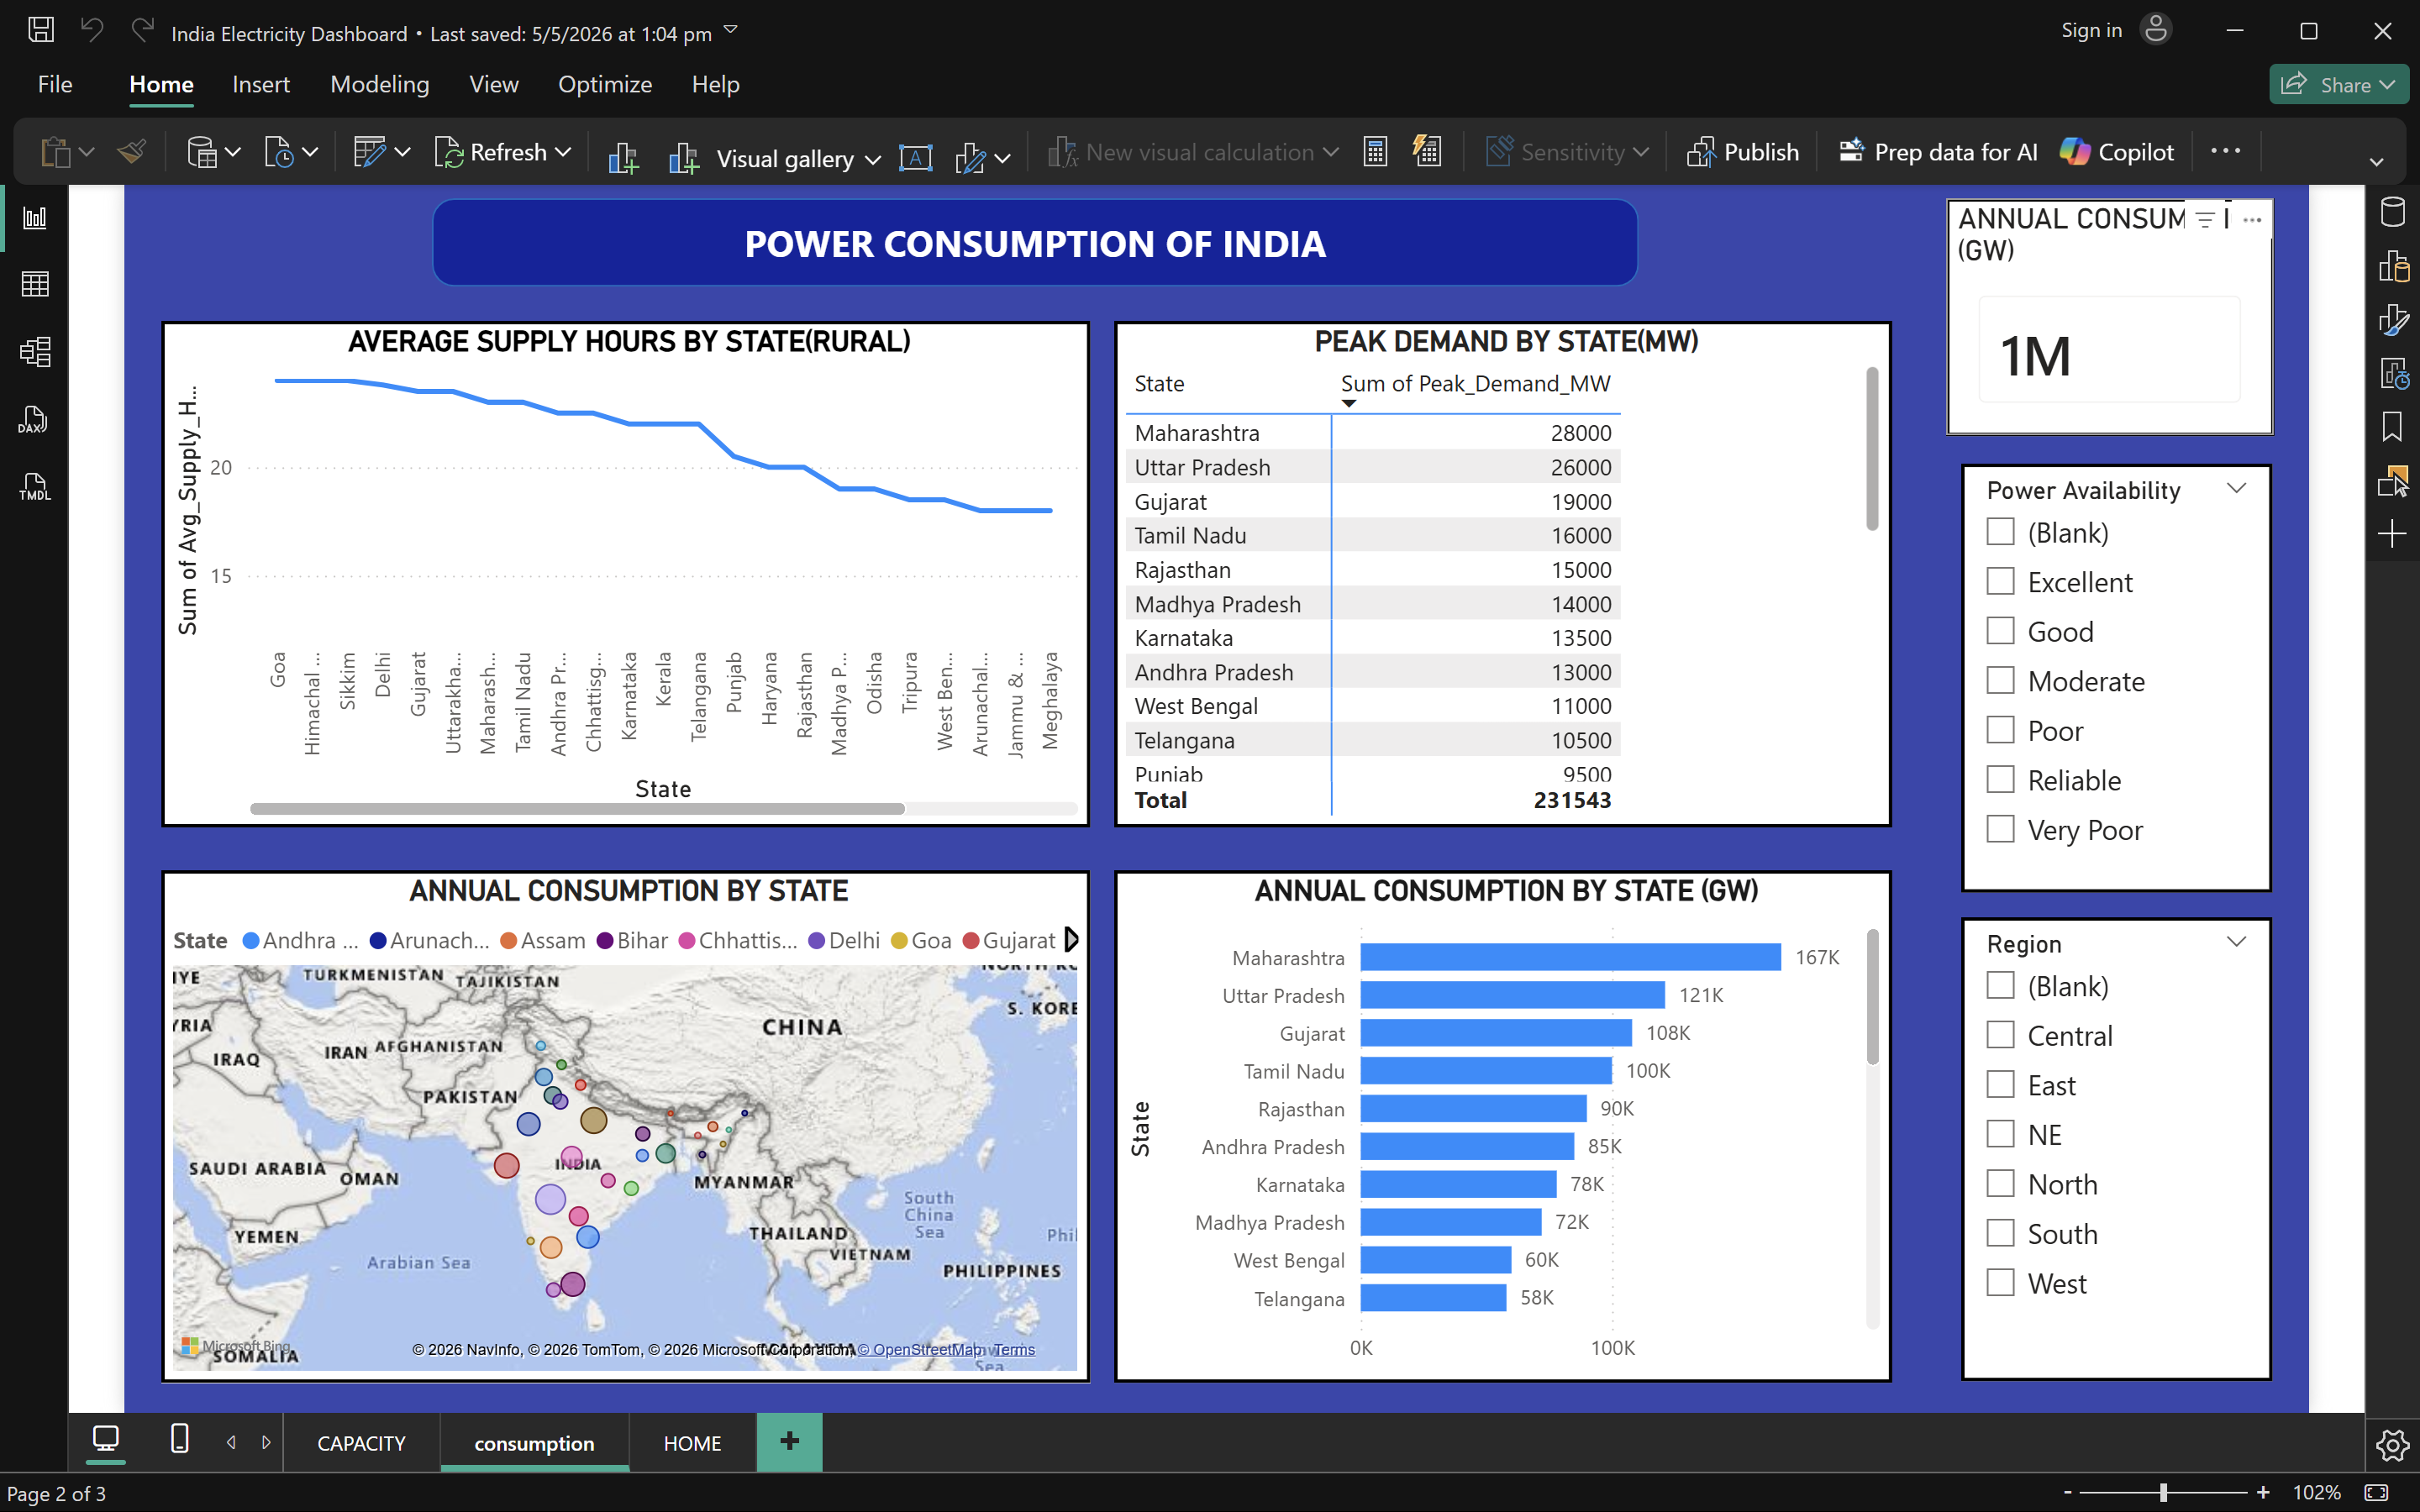

This screenshot's page, from the dashboard's own definition file:
{"tool":"powerbi","page":{"name":"consumption","canvas":[1280,720],"ordinal":1},"visuals":[{"type":"map","title":"ANNUAL CONSUMPTION BY STATE","fields":{"Category":["State_Consumption.State"],"Size":["Sum(State_Consumption.Annual_Consumption_GWh)"],"Series":["State_Capacity.State"]},"box":[21.6,401.8,544.4,300.3],"z":0},{"type":"lineChart","title":"AVERAGE SUPPLY HOURS BY STATE(RURAL)","fields":{"Category":["State_Consumption.State"],"Y":["Sum(State_Consumption.Avg_Supply_Hours_Rural)"]},"box":[21.6,79.9,544.4,297],"z":1000},{"type":"clusteredBarChart","title":"ANNUAL CONSUMPTION BY STATE (GW)","fields":{"Category":["State_Consumption.State"],"Y":["Sum(State_Consumption.Annual_Consumption_GWh)"]},"box":[580.1,401.8,455.8,300.3],"z":2000},{"type":"pivotTable","title":"PEAK DEMAND BY STATE(MW)","fields":{"Rows":["State_Consumption.State"],"Values":["Sum(State_Consumption.Peak_Demand_MW)"]},"box":[580.1,79.9,455.8,297],"z":3000},{"type":"slicer","fields":{"Values":["State_Consumption.Region"]},"box":[1076.9,429.9,182.5,272.2],"z":4000},{"type":"shape","box":[180.4,7.6,707.5,51.8],"z":5000},{"type":"slicer","fields":{"Values":["State_Consumption.Power_Availability_Status"]},"box":[1076.9,163.1,182.5,251.7],"z":6000},{"type":"cardVisual","title":"ANNUAL CONSUMPTION (GW)","fields":{"Data":["Sum(State_Consumption.Annual_Consumption_GWh)"]},"box":[1067.2,7.6,192.3,139.3],"z":7000}]}

Visuals, with their boxes on the page's 1280x720 design canvas (x1, y1, x2, y2). These are canvas units, not pixel positions in the 2420x1512 screenshot, which may show the page scaled, cropped or inside an application window:
"ANNUAL CONSUMPTION BY STATE" map: [x1=22, y1=402, x2=566, y2=702]
"AVERAGE SUPPLY HOURS BY STATE(RURAL)" lineChart: [x1=22, y1=80, x2=566, y2=377]
"ANNUAL CONSUMPTION BY STATE (GW)" clusteredBarChart: [x1=580, y1=402, x2=1036, y2=702]
"PEAK DEMAND BY STATE(MW)" pivotTable: [x1=580, y1=80, x2=1036, y2=377]
slicer - State_Consumption.Region: [x1=1077, y1=430, x2=1259, y2=702]
shape: [x1=180, y1=8, x2=888, y2=59]
slicer - State_Consumption.Power_Availability_Status: [x1=1077, y1=163, x2=1259, y2=415]
"ANNUAL CONSUMPTION (GW)" cardVisual: [x1=1067, y1=8, x2=1260, y2=147]
